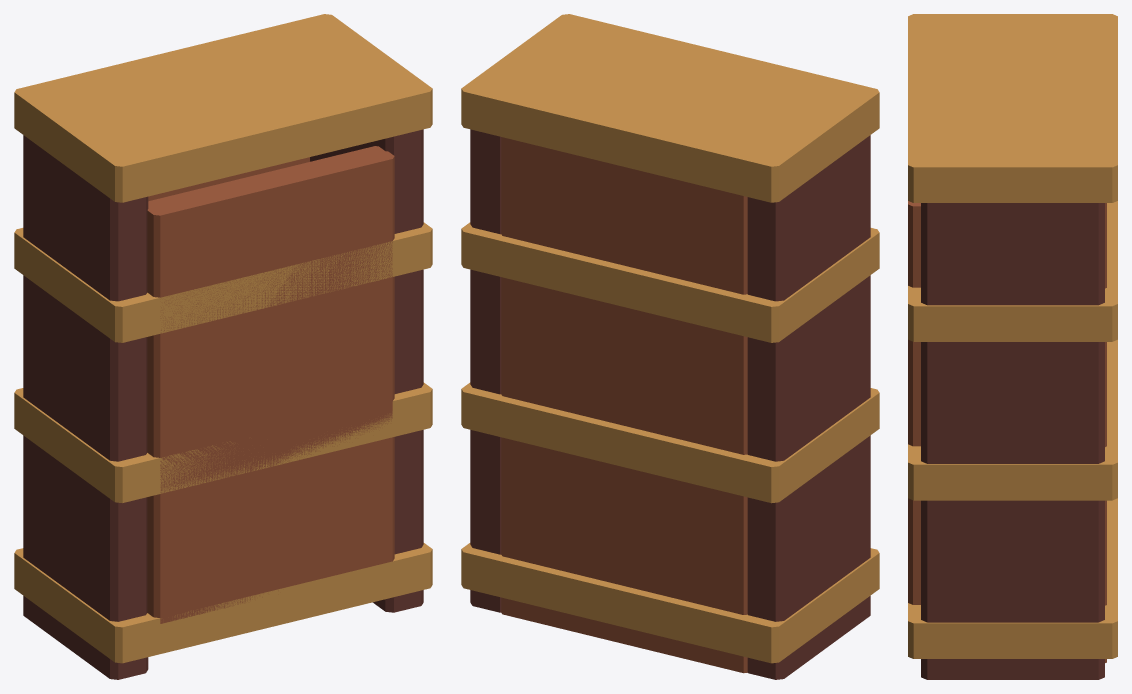
The model's file is Cupboard.fbx.
3 renders of one model, left to right at view 1: azimuth 30°, elevation 25°; view 2: azimuth 150°, elevation 25°; view 3: azimuth 270°, elevation 25°, orthographic.
Visible parts, largest first — view 1: Cupboard.005; view 2: Cupboard.005; view 3: Cupboard.005.
Part boxes in pixels (<box>): Cupboard.005: <box>14,14,432,679</box>; Cupboard.005: <box>461,14,879,679</box>; Cupboard.005: <box>908,14,1117,679</box>.
Size of the model in its own units: 83 by 130 by 48.
